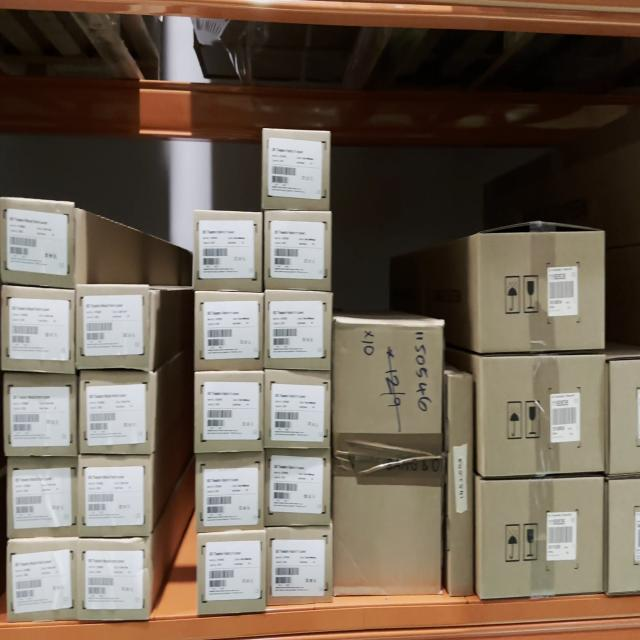box: (334, 317, 444, 590), (479, 356, 603, 482), (477, 477, 606, 597), (479, 237, 606, 350), (3, 284, 78, 372), (78, 366, 153, 453), (77, 289, 153, 372), (6, 536, 79, 622), (448, 378, 476, 597), (3, 374, 77, 456), (78, 538, 150, 618), (194, 370, 264, 452), (262, 207, 332, 289), (0, 205, 74, 281), (194, 294, 267, 371), (79, 455, 151, 533), (194, 454, 264, 534), (8, 456, 78, 536), (194, 212, 264, 290), (197, 526, 265, 606), (261, 127, 329, 206), (264, 290, 330, 368), (267, 370, 331, 449), (268, 529, 333, 603), (264, 448, 329, 518)
